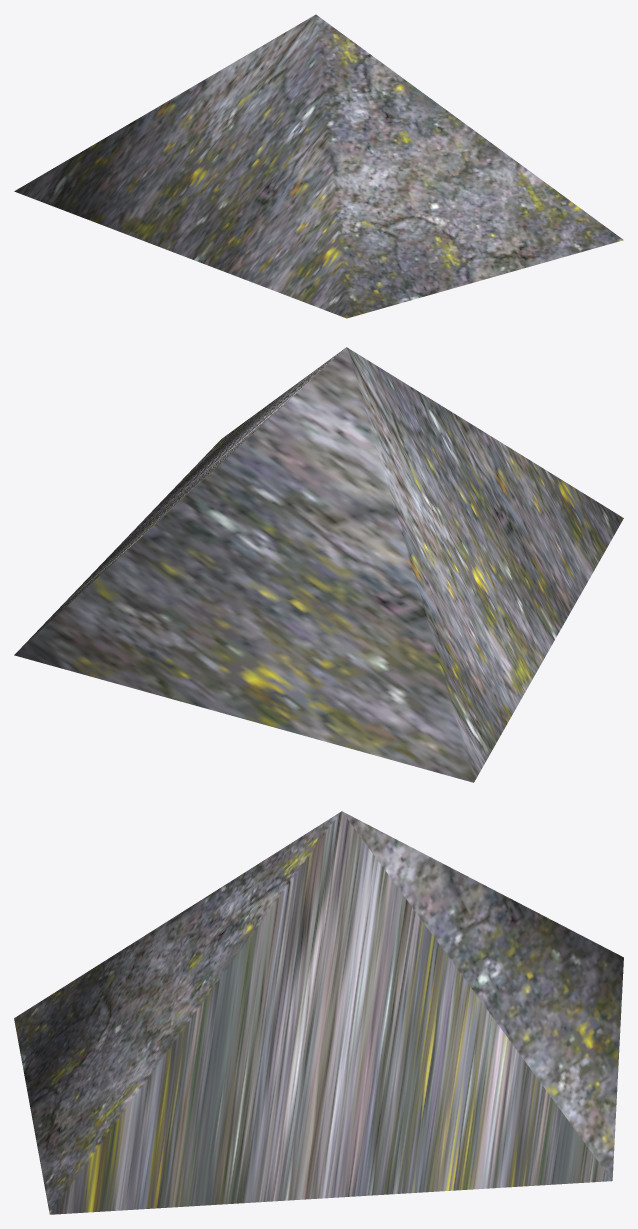
The model's file is rock_weatheredmossy_large_a1_l3.fbx.
The picture shows the model from 3 angles, top to bottom: view 1: azimuth 30°, elevation 25°; view 2: azimuth 150°, elevation 25°; view 3: azimuth 270°, elevation 25°; orthographic projection. The views are drawn at different scales.
Parts seen in each view (by area): view 1: mesh_node; view 2: mesh_node; view 3: mesh_node.
Boxes of the visible parts, x1,y1,x2,y2 form: mesh_node: [14, 14, 623, 318]; mesh_node: [14, 347, 623, 782]; mesh_node: [14, 811, 623, 1214].
Size of the model in its own units: 0.8932 by 0.435 by 0.8616.
Materials: 1 (1 with a texture image).
